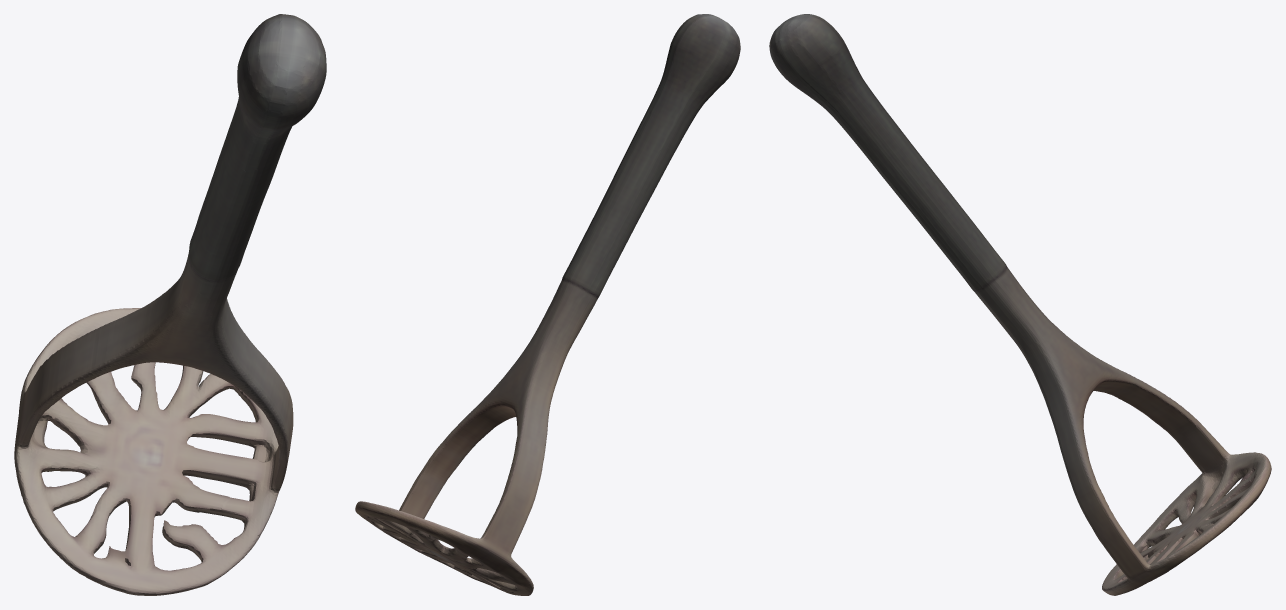
File: frame_0007_source_000007_object.glb
The picture shows the model from 3 angles, left to right: view 1: azimuth 30°, elevation 25°; view 2: azimuth 150°, elevation 25°; view 3: azimuth 270°, elevation 25°; orthographic projection. The views are drawn at different scales.
Parts seen in each view (by area): view 1: world; view 2: world; view 3: world.
Boxes of the visible parts, left/top/right/bottom form: world: left=14, top=14, right=326, bottom=595; world: left=355, top=14, right=740, bottom=595; world: left=769, top=14, right=1271, bottom=595.
Bounding box in the file's own units: 0.0926 × 0.2235 × 0.1915.
